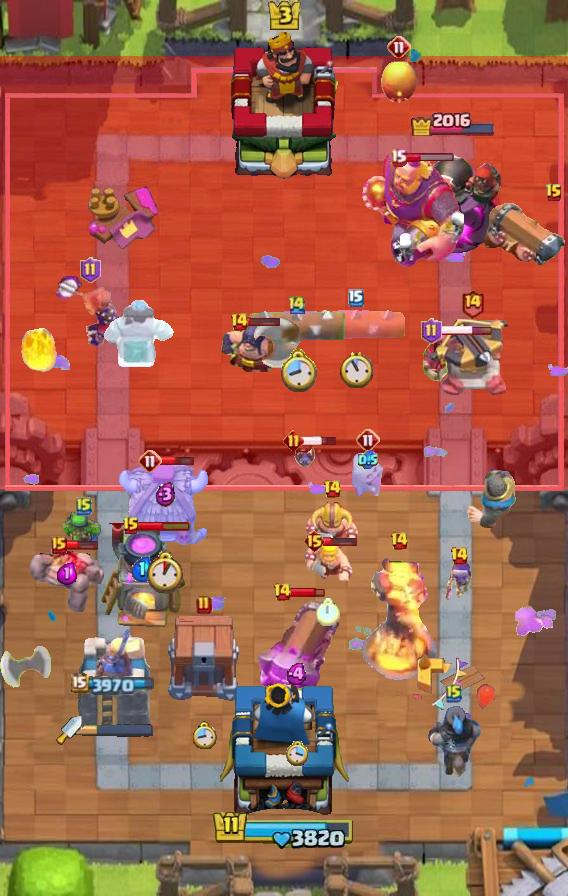archer: (296, 539, 360, 585)
bar: (75, 623, 153, 731)
barbarian-barrel: (291, 442, 317, 472)
bat-evolution: (350, 451, 386, 501)
battle-healer: (480, 200, 568, 272)
bomb: (165, 616, 243, 702)
bowler: (421, 329, 467, 383)
clock: (212, 809, 356, 851)
electro-dragon: (360, 555, 438, 683)
electro-spirit: (131, 556, 153, 582), (156, 481, 177, 507), (287, 663, 310, 685), (57, 562, 77, 586), (358, 450, 378, 470)
elixir: (146, 551, 187, 594), (279, 347, 318, 392), (340, 351, 373, 388), (192, 721, 217, 749), (316, 598, 340, 626), (287, 741, 310, 767)
emote: (137, 520, 190, 532), (439, 325, 493, 336), (404, 152, 455, 163), (160, 454, 195, 467), (301, 435, 338, 447), (247, 316, 282, 328), (323, 535, 358, 547), (290, 586, 325, 598), (65, 539, 99, 551)
firecracker: (466, 468, 517, 528)
furnace: (254, 594, 340, 718)
giant-snowball: (63, 512, 105, 552)
goblin: (443, 559, 475, 601)
goblin-giant: (305, 502, 359, 550)
hog: (379, 60, 419, 104)
hunter: (97, 523, 187, 631)
inferno-dragon: (426, 701, 482, 777)
king-tower: (219, 678, 349, 826), (222, 31, 346, 181)
king-tower-bar: (82, 723, 154, 737)
lava-pup: (431, 319, 513, 399)
lightning: (360, 154, 464, 272)
minion: (305, 309, 407, 345), (246, 310, 348, 346)
monk: (220, 318, 286, 376)
prince: (118, 461, 212, 551)
rage: (100, 299, 177, 367)
royal-giant: (0, 646, 52, 706), (250, 316, 306, 370)
selected: (411, 109, 498, 136), (71, 673, 157, 695)
tesla-evolution: (56, 274, 125, 348)
text: (460, 289, 485, 320), (387, 35, 411, 59), (356, 428, 380, 452), (138, 449, 162, 473), (303, 529, 326, 553), (80, 257, 101, 283), (421, 318, 442, 344), (284, 429, 305, 450), (287, 294, 307, 315), (322, 479, 342, 499), (272, 582, 292, 602), (230, 312, 249, 332), (390, 531, 409, 551), (450, 546, 469, 566), (545, 183, 563, 203), (122, 516, 140, 536), (389, 148, 406, 167), (76, 496, 92, 516), (196, 595, 212, 615), (446, 683, 462, 703), (348, 289, 364, 307), (51, 536, 67, 554)
tower-bar: (403, 138, 503, 256)
valkyrie: (15, 316, 61, 374)
valkyrie-evolution: (30, 550, 104, 612)
